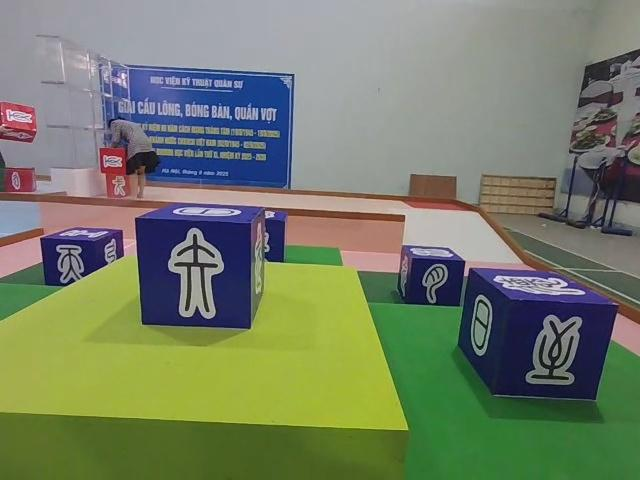R2 Fake Blue: (460, 269, 619, 403), (136, 204, 269, 332), (41, 228, 124, 289), (398, 245, 469, 308)
